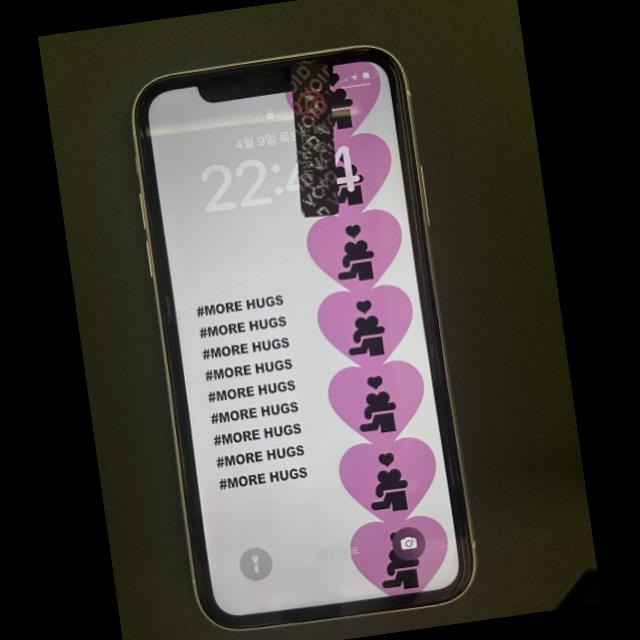phone: (134, 47, 474, 628)
sticker: (290, 58, 339, 217)
